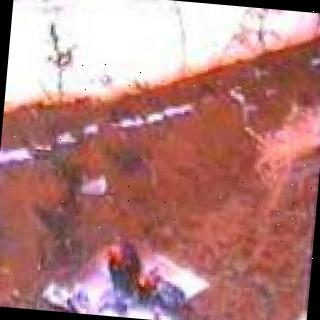fire: (96, 229, 170, 302)
